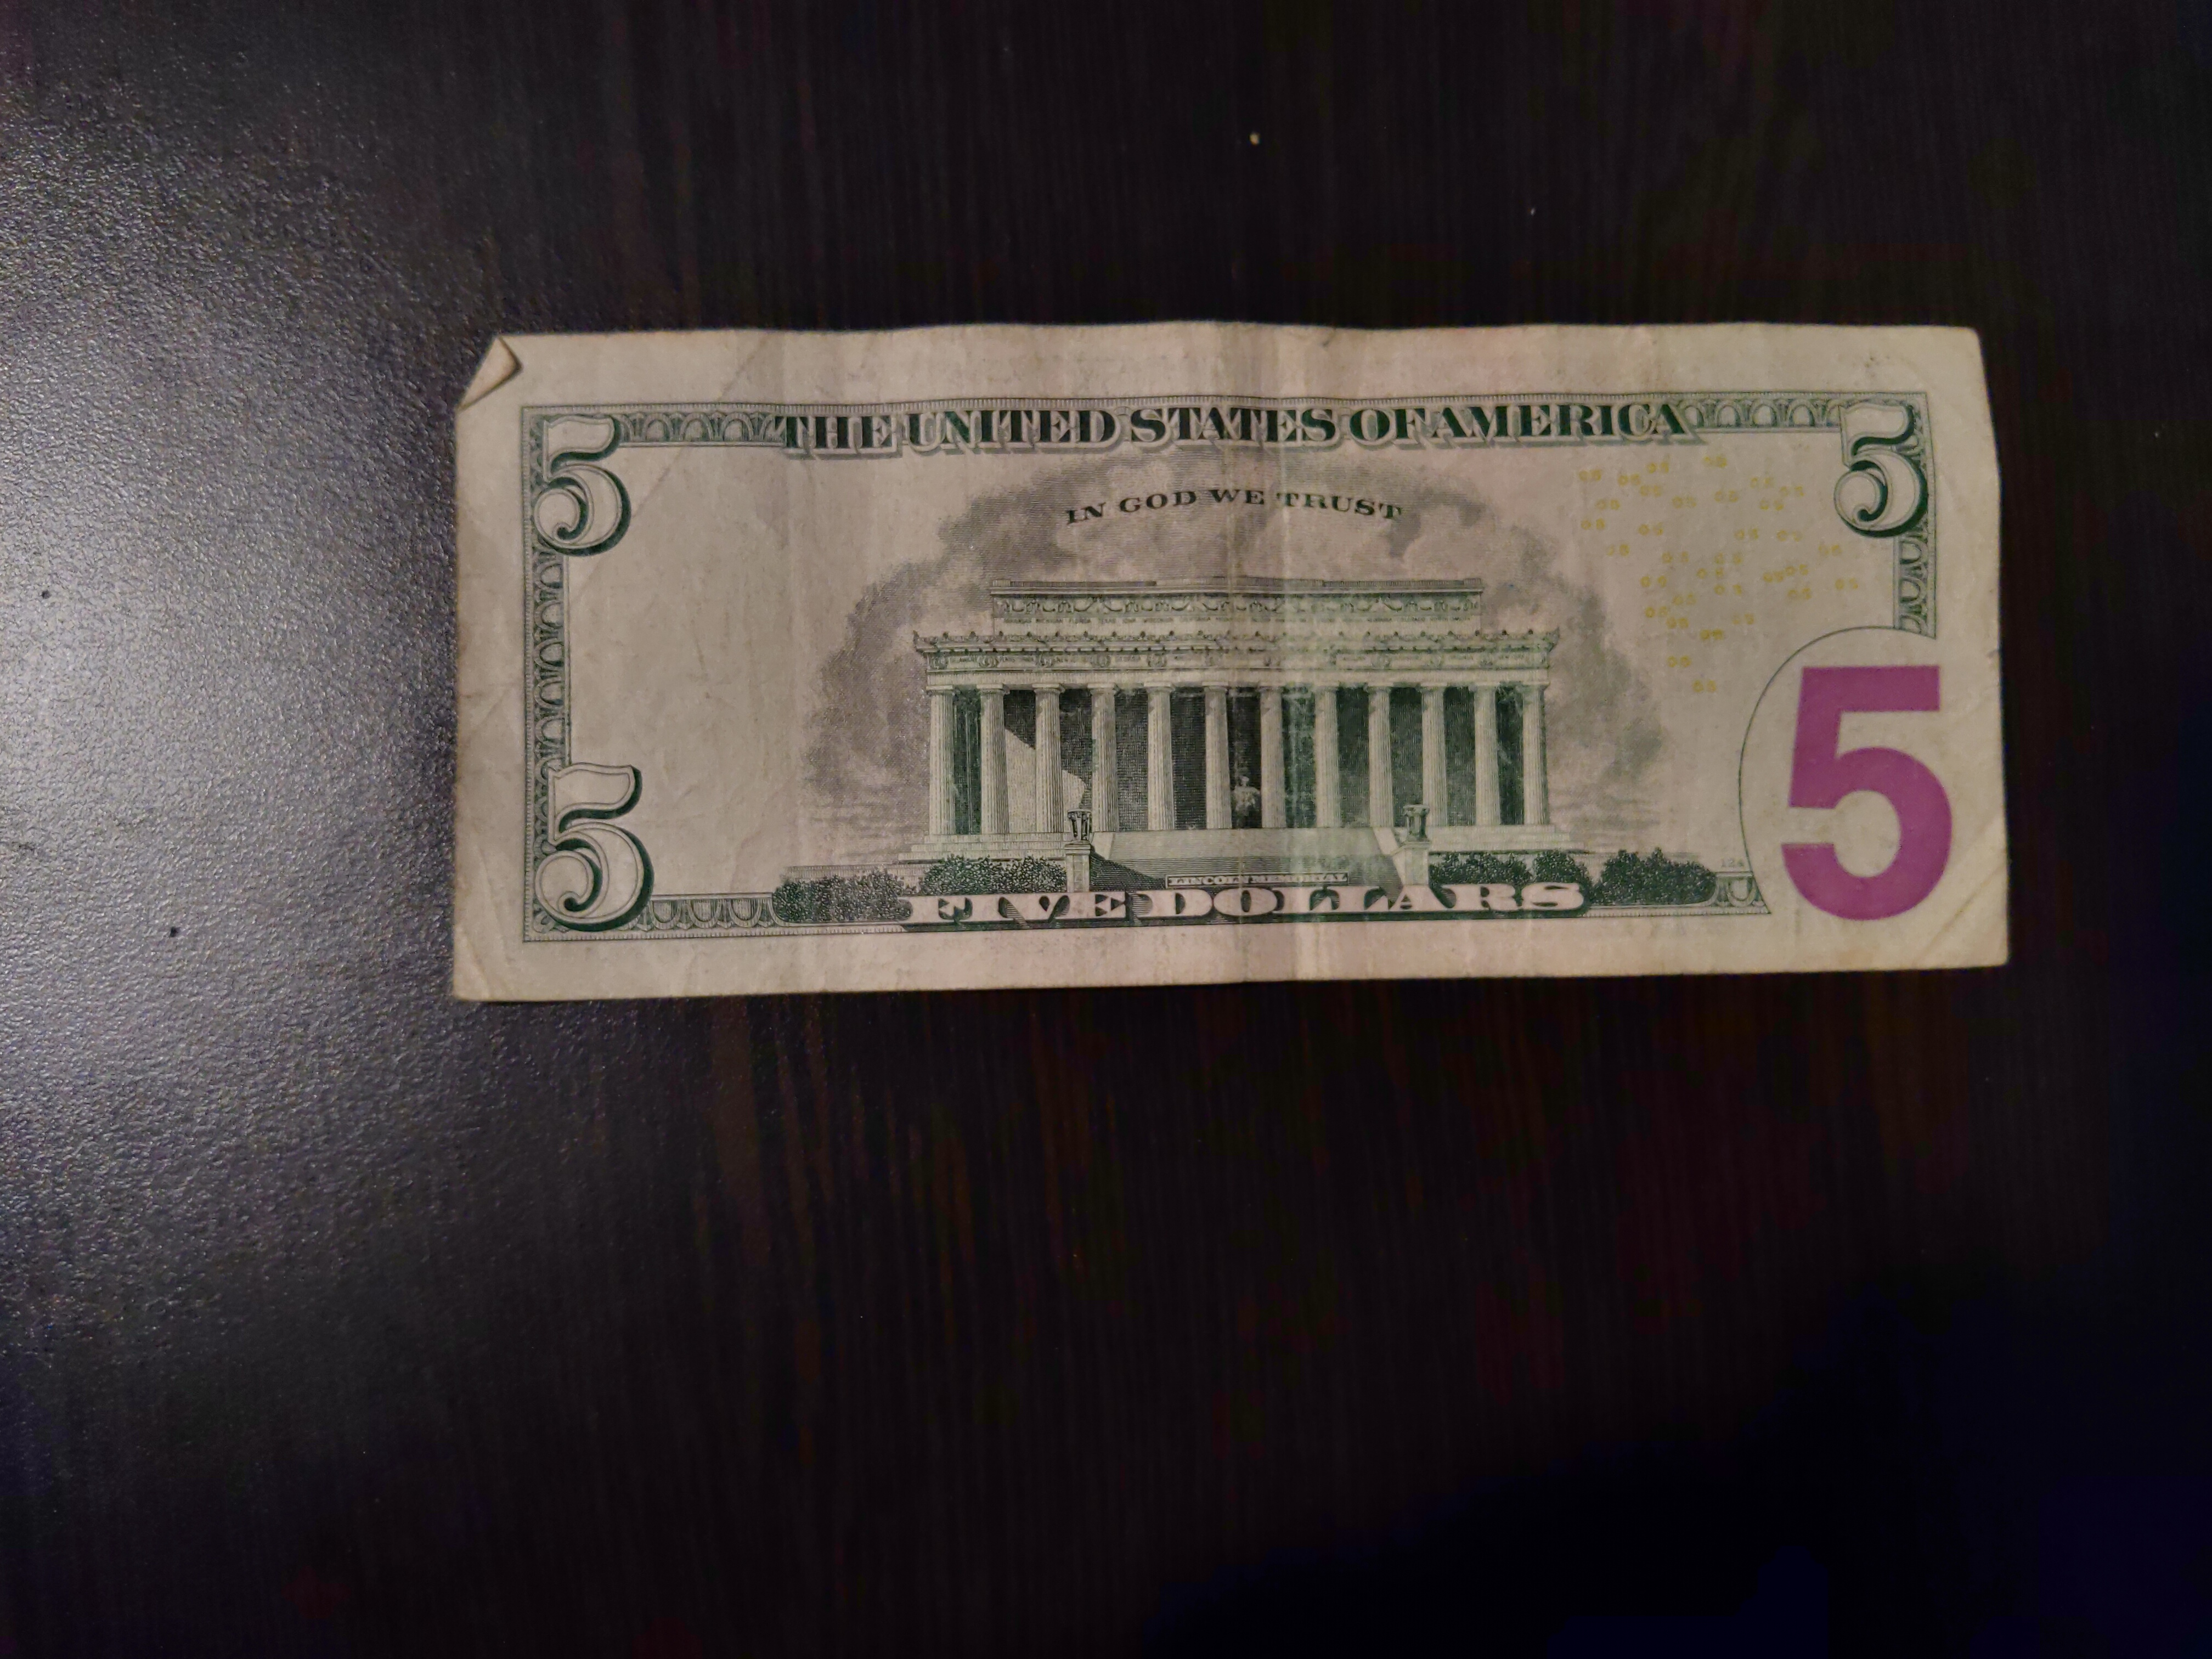FiveBill: (448, 314, 2015, 1007)
